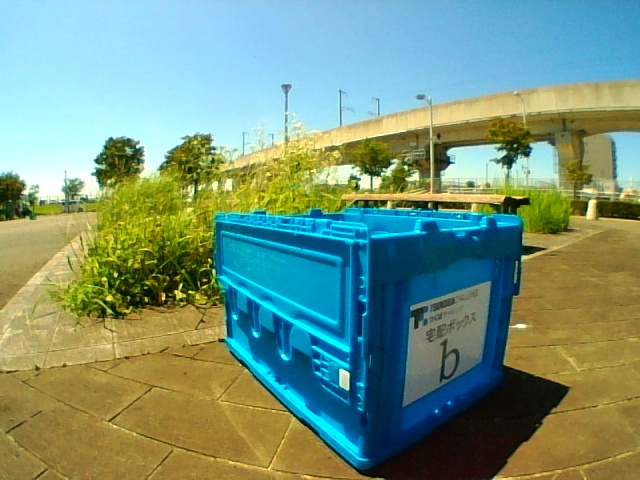blue_box: (228, 213, 499, 381)
tag_b: (424, 304, 463, 380)
